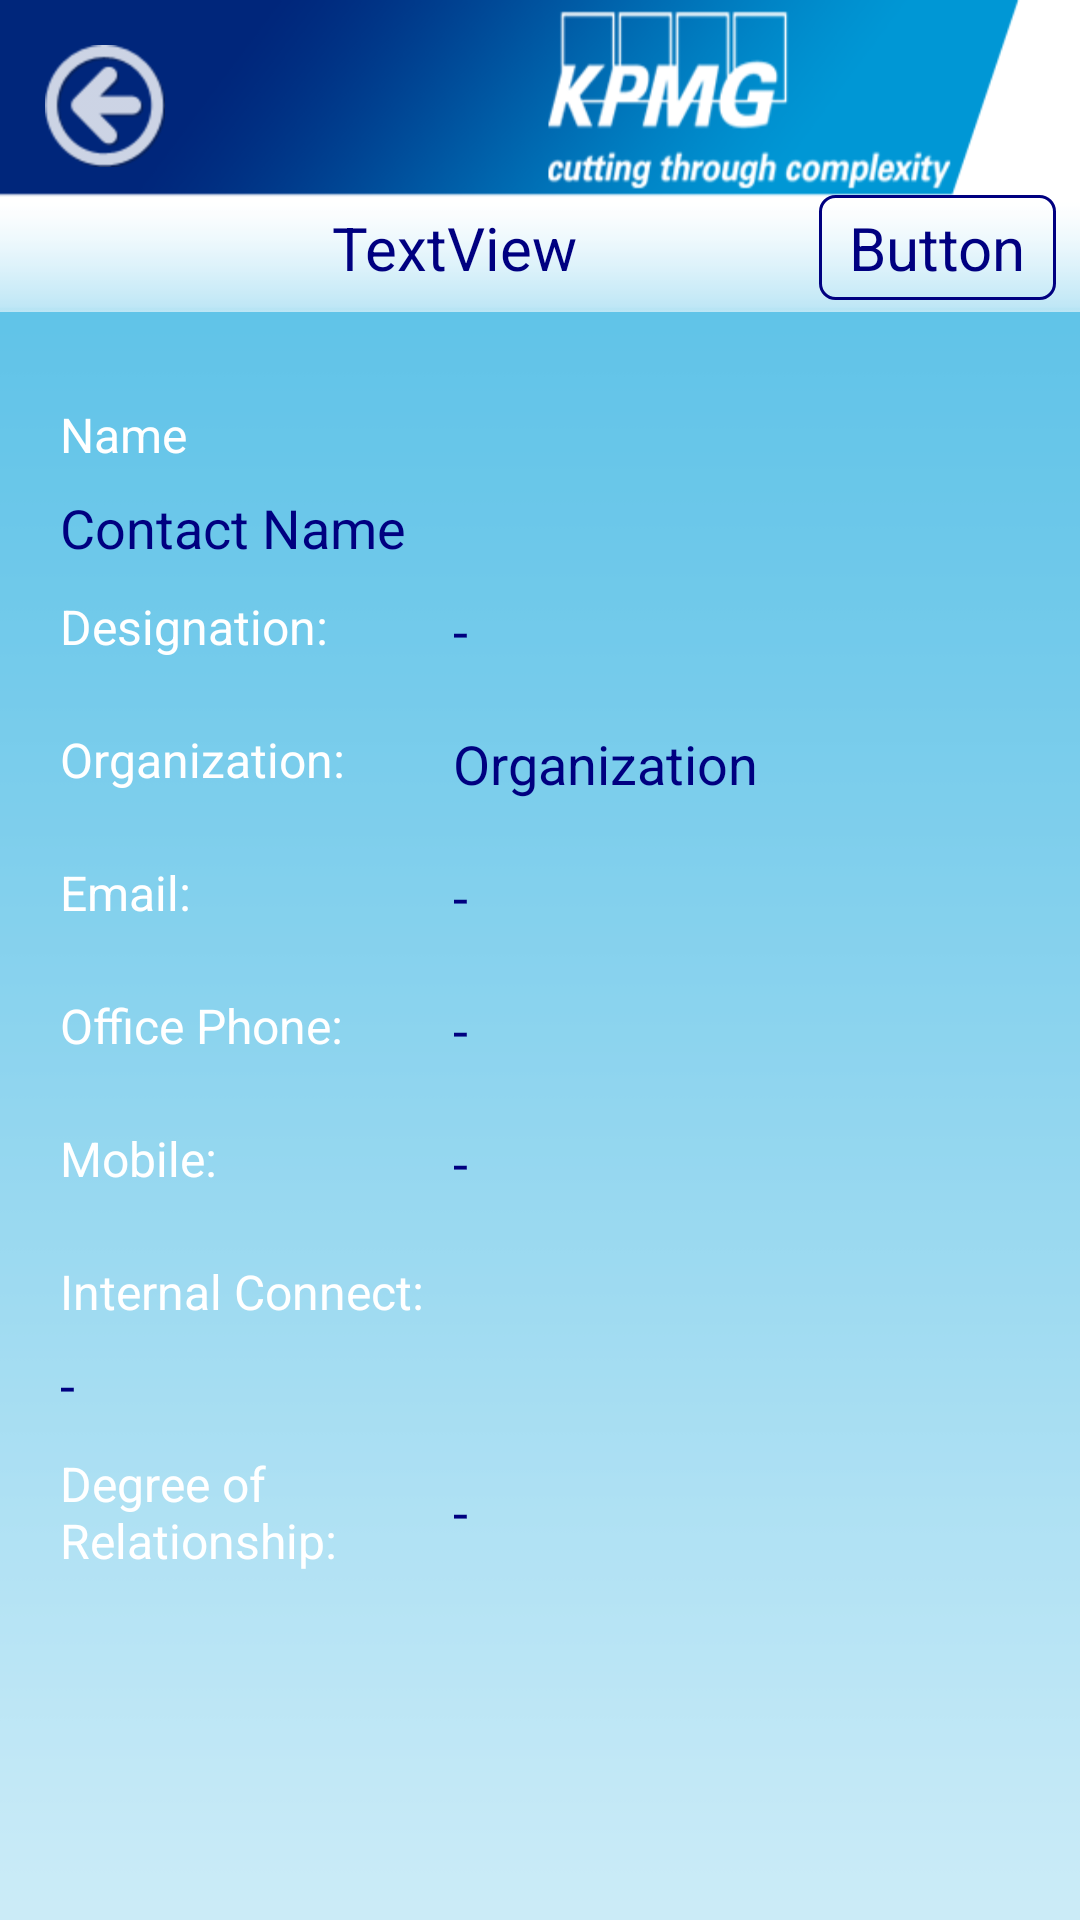

Point at icon controls on the screen. Image size 1080px x 1920px, points as (x=x, y=y).
back: (x=105, y=106)
